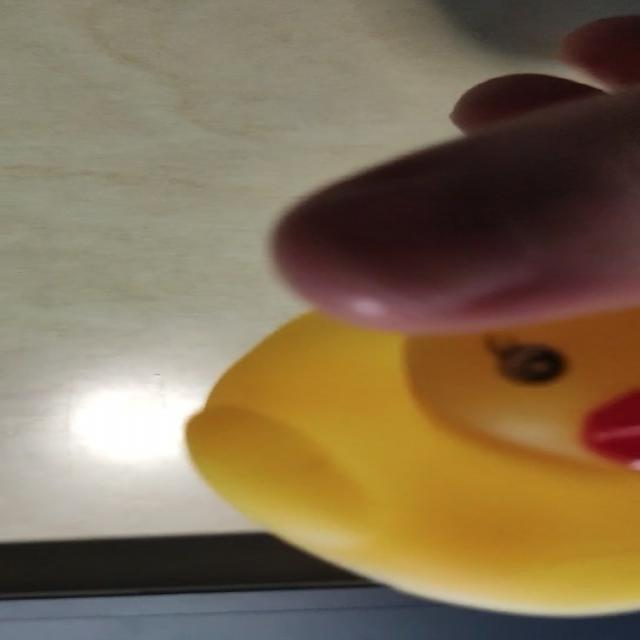rubber-duck: (186, 308, 638, 611)
